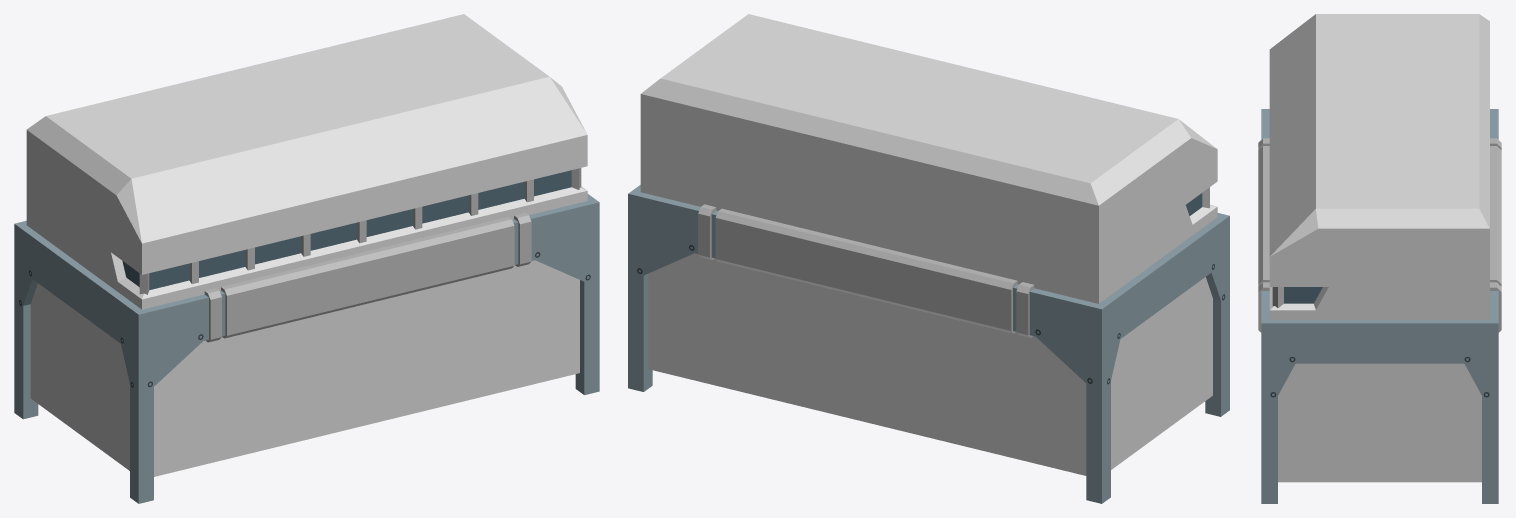
The model's file is space_station_014.fbx.
3 renders of one model, left to right at view 1: azimuth 30°, elevation 25°; view 2: azimuth 150°, elevation 25°; view 3: azimuth 270°, elevation 25°, orthographic. The views are drawn at different scales.
Parts seen in each view (by area): view 1: space_station_014; view 2: space_station_014; view 3: space_station_014.
Part boxes in pixels (left/top/right/bottom): space_station_014: left=14, top=14, right=599, bottom=503; space_station_014: left=628, top=14, right=1229, bottom=503; space_station_014: left=1258, top=14, right=1501, bottom=503.
Bounding box in the file's own units: 1652 × 791 × 1023.
